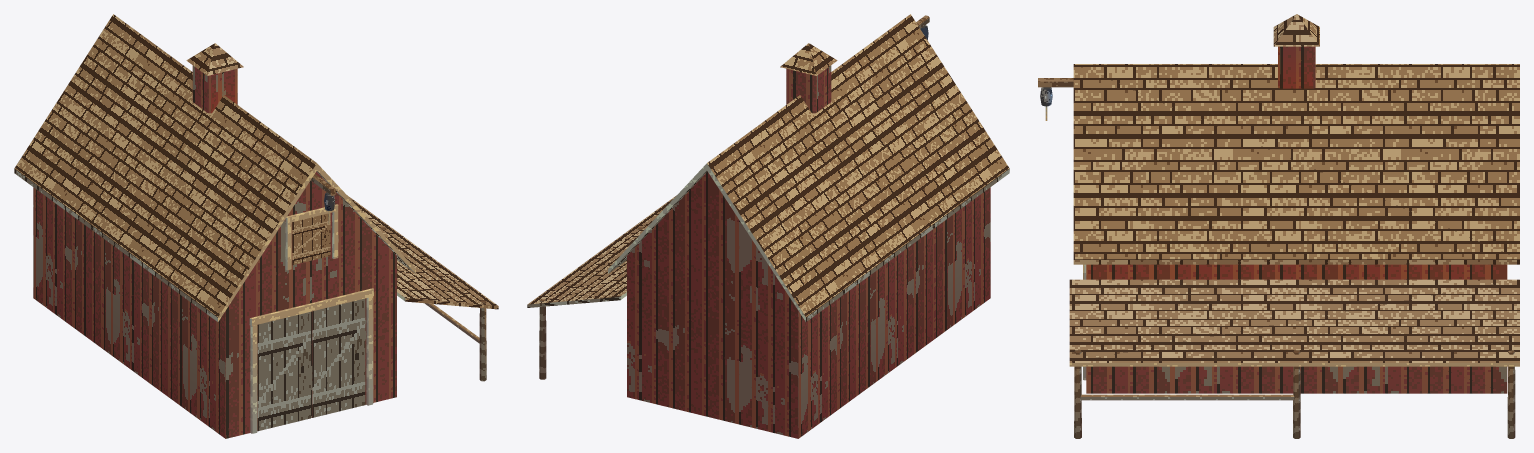
The model's file is wtown.stable.glb.
The picture shows the model from 3 angles, left to right: view 1: azimuth 30°, elevation 25°; view 2: azimuth 150°, elevation 25°; view 3: azimuth 270°, elevation 25°; orthographic projection. The views are drawn at different scales.
Visible parts, largest first — view 1: kit_roof, kit_body, kit_card_panes, kit_lean_to, kit_trim, kit_cupola, kit_cupola_cap; view 2: kit_body, kit_roof, kit_lean_to, kit_cupola, kit_cupola_cap; view 3: kit_roof, kit_lean_to, kit_body, kit_cupola, kit_lean_rail, kit_cupola_cap, kit_hoist.
Boxes of the visible parts, <box> form: kit_roof: <box>14,14,415,321</box>; kit_body: <box>33,171,396,438</box>; kit_card_panes: <box>257,213,365,431</box>; kit_lean_to: <box>347,195,498,381</box>; kit_trim: <box>249,204,373,433</box>; kit_cupola: <box>192,65,237,113</box>; kit_cupola_cap: <box>186,43,243,75</box>; kit_body: <box>627,171,990,438</box>; kit_roof: <box>608,14,1009,321</box>; kit_lean_to: <box>527,195,676,379</box>; kit_cupola: <box>786,65,831,113</box>; kit_cupola_cap: <box>780,43,837,75</box>; kit_roof: <box>1073,64,1519,264</box>; kit_lean_to: <box>1069,279,1519,438</box>; kit_body: <box>1086,264,1507,393</box>; kit_cupola: <box>1278,46,1315,88</box>; kit_lean_rail: <box>1080,394,1294,400</box>; kit_cupola_cap: <box>1273,14,1319,46</box>; kit_hoist: <box>1038,78,1073,106</box>.
Size of the model in its own units: 8.37 by 8.75 by 11.45.
9 materials, 9 textured.
